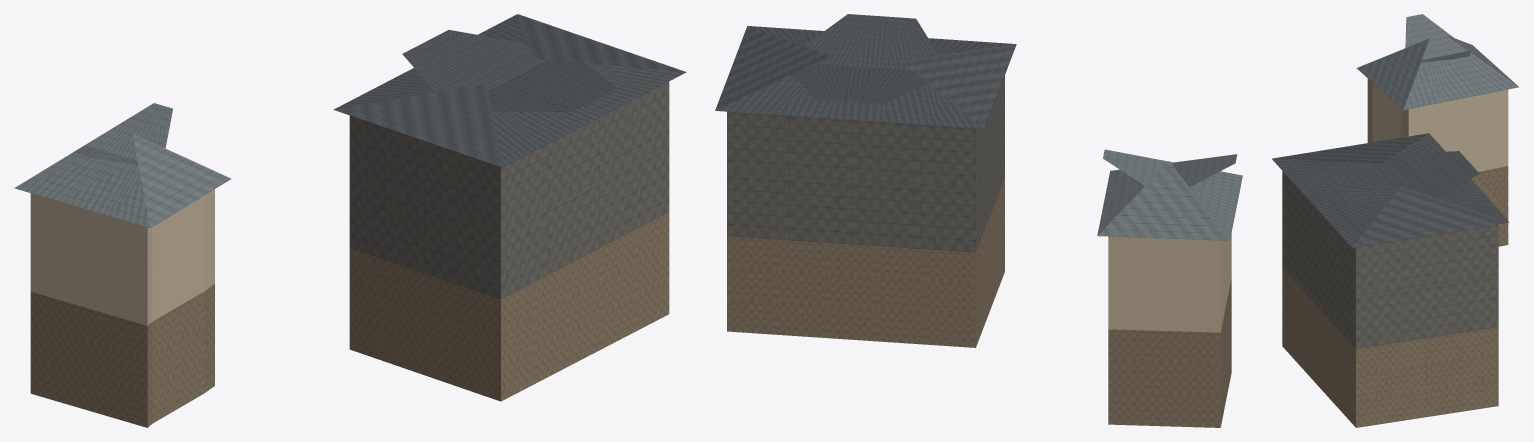
The model's file is bld_c35_35_307.gltf.
The picture shows the model from 3 angles, left to right: view 1: azimuth 30°, elevation 25°; view 2: azimuth 150°, elevation 25°; view 3: azimuth 270°, elevation 25°; orthographic projection. The views are drawn at different scales.
Visible parts, largest first — view 1: bld_c35_35_307; view 2: bld_c35_35_307; view 3: bld_c35_35_307.
Boxes of the visible parts, x1=… form: bld_c35_35_307: x1=14, y1=14, x2=686, y2=427; bld_c35_35_307: x1=715, y1=14, x2=1242, y2=427; bld_c35_35_307: x1=1272, y1=14, x2=1518, y2=427.
Size of the model in its own units: 31.1 by 13.25 by 14.53.
Materials: 5 (5 with a texture image).
